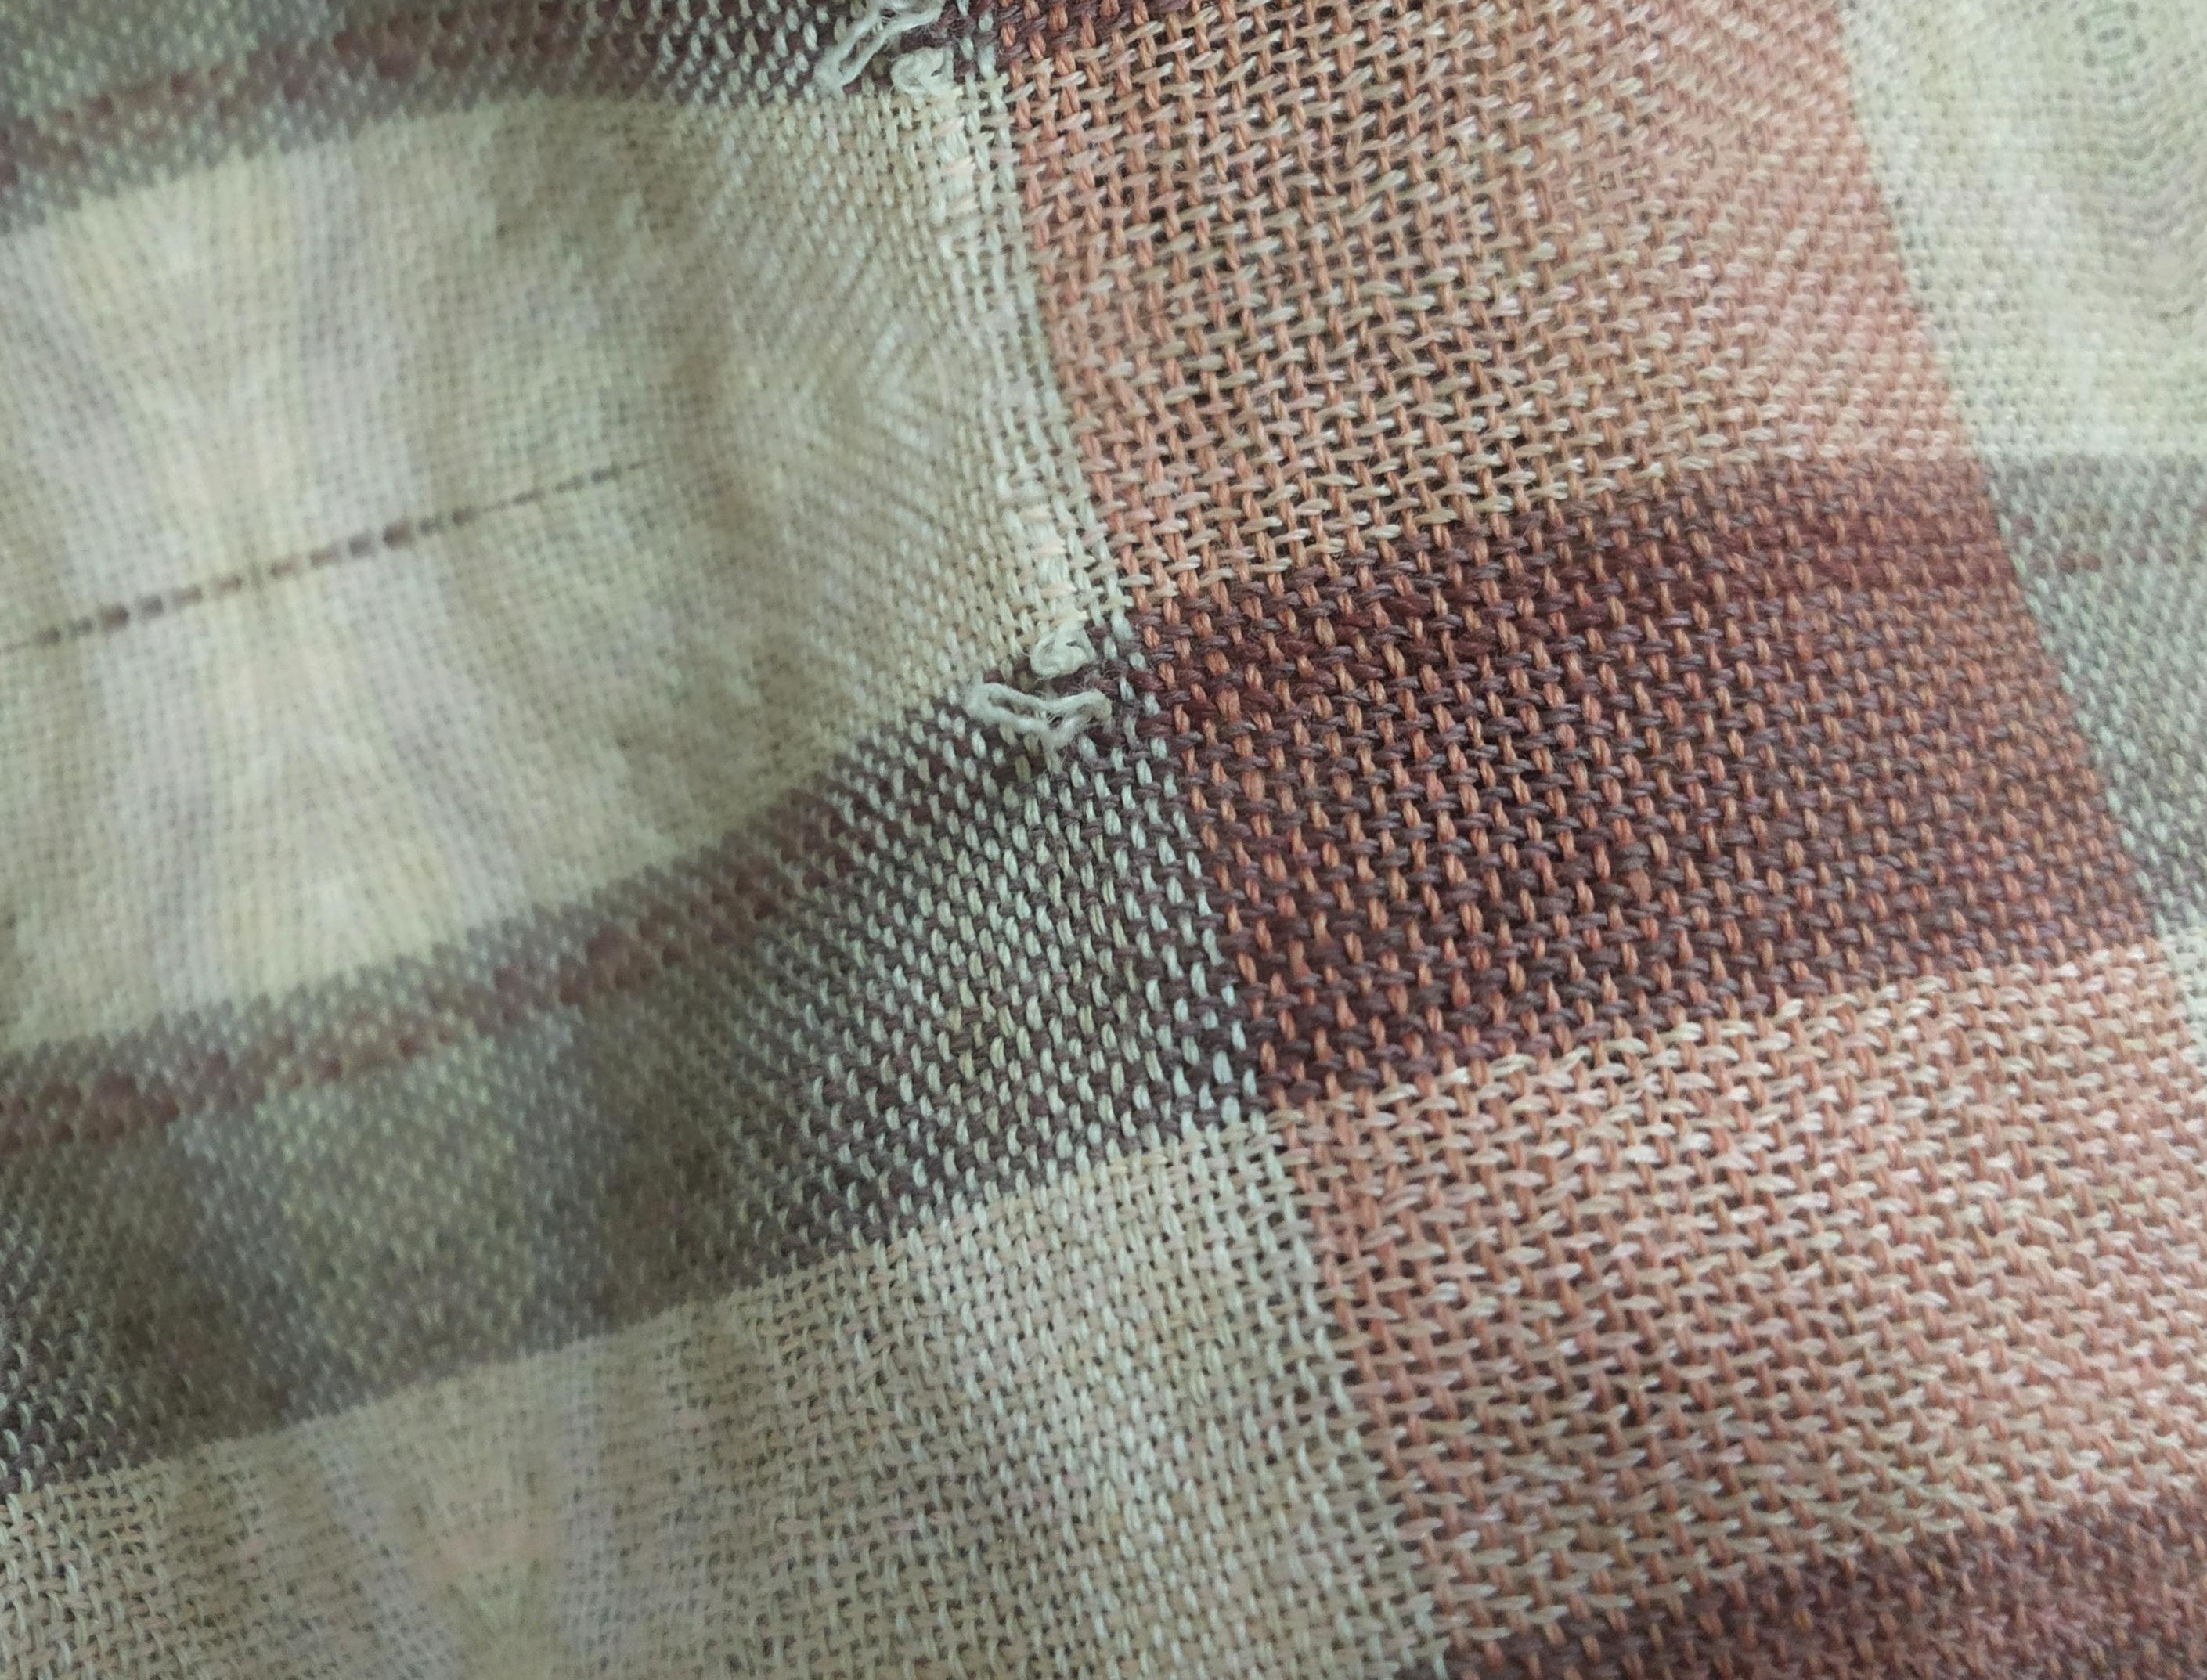snag: (940, 614, 1173, 773), (790, 5, 997, 134)
